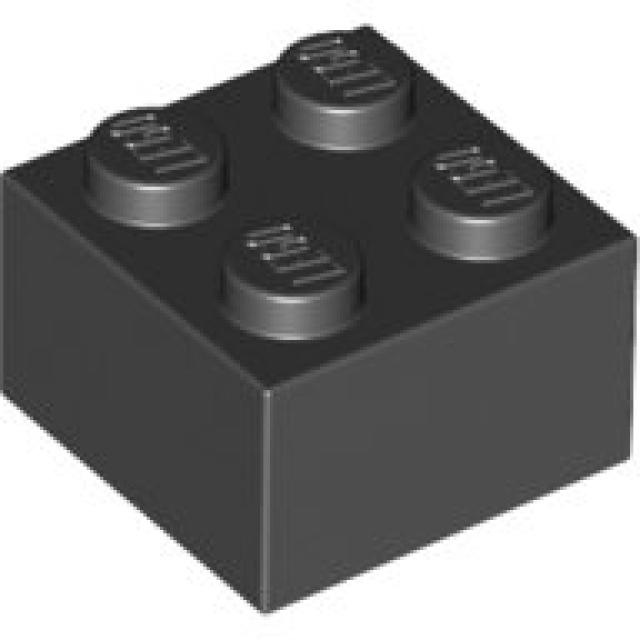Black_Medium: (7, 27, 633, 617)
